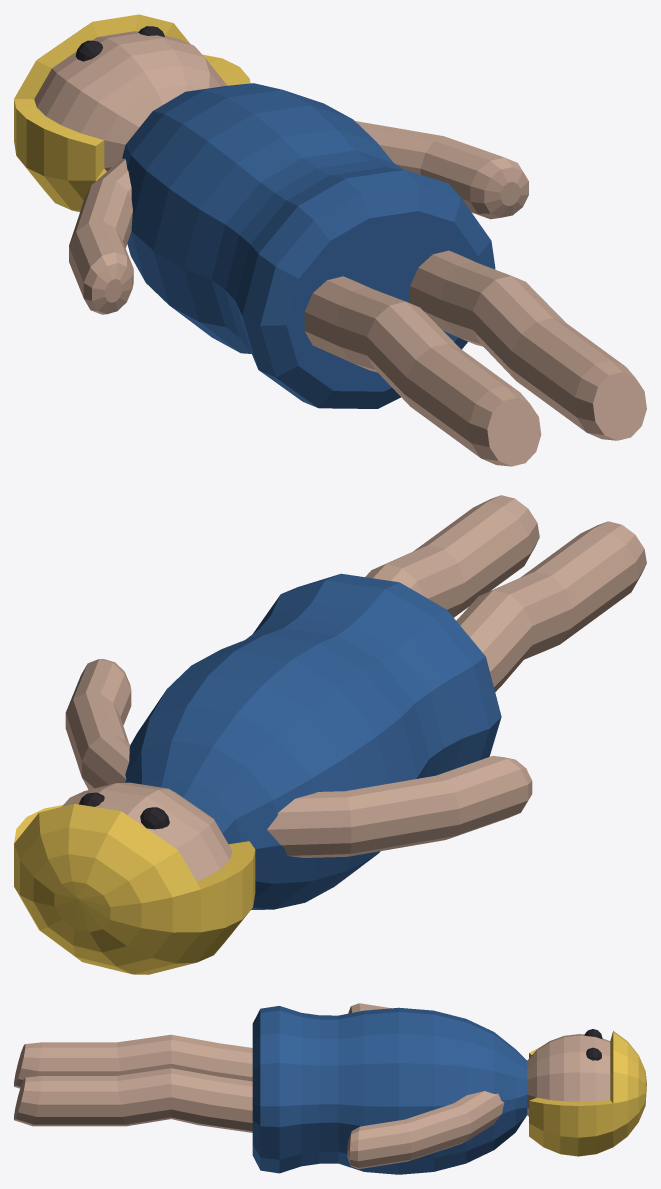
The model's file is doll.fbx.
3 renders of one model, top to bottom at view 1: azimuth 30°, elevation 25°; view 2: azimuth 150°, elevation 25°; view 3: azimuth 270°, elevation 25°, orthographic. The views are drawn at different scales.
Parts seen in each view (by area): view 1: doll; view 2: doll; view 3: doll.
Part boxes in pixels (left/top/right/bottom): doll: left=14, top=14, right=646, bottom=466; doll: left=14, top=495, right=646, bottom=974; doll: left=14, top=1003, right=646, bottom=1174.
Bounding box in the file's own units: 0.1178 × 0.0591 × 0.225.
1 material, 1 textured.
